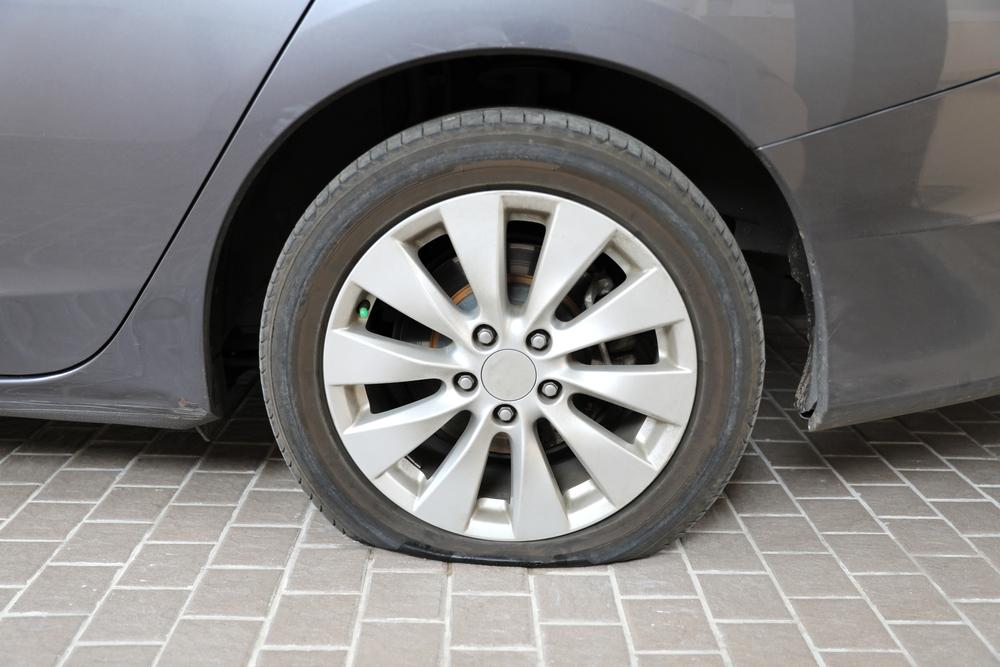tire flat: (256, 108, 767, 567)
